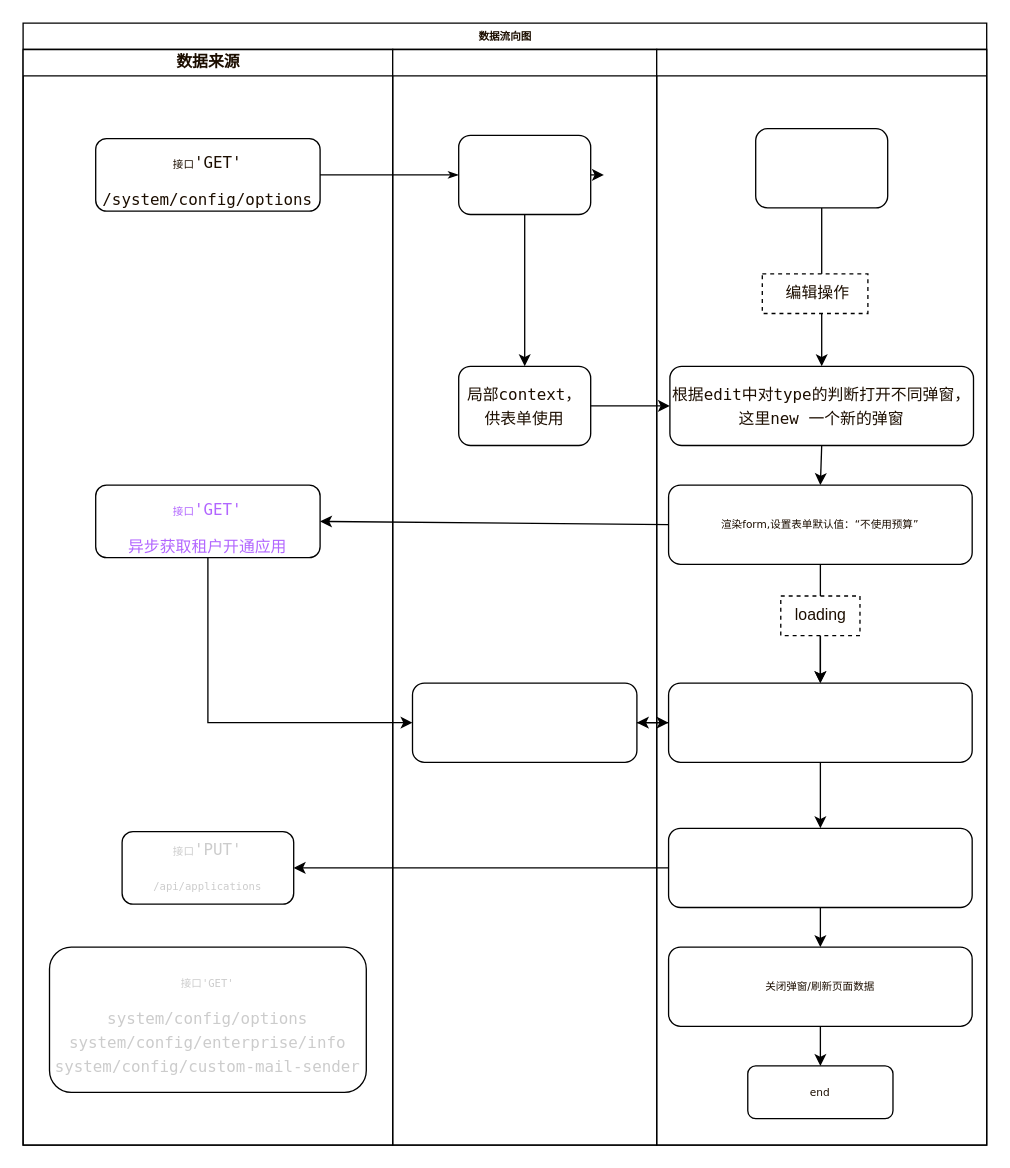
This 1010x1168 diagram has some shape labels left out. Here are the shapes that lost their labels. From the top down, the box of each, then its label:
(457, 134, 591, 214): state:optionsData
(754, 127, 888, 208): 渲染当前预算设置模块默认值
(391, 48, 657, 1145): 状态管理
(655, 48, 987, 1145): 组件
(411, 682, 637, 762): state applicationOptions
(667, 682, 972, 762): 展示全部应用选项
(667, 827, 972, 908): 保存校验
